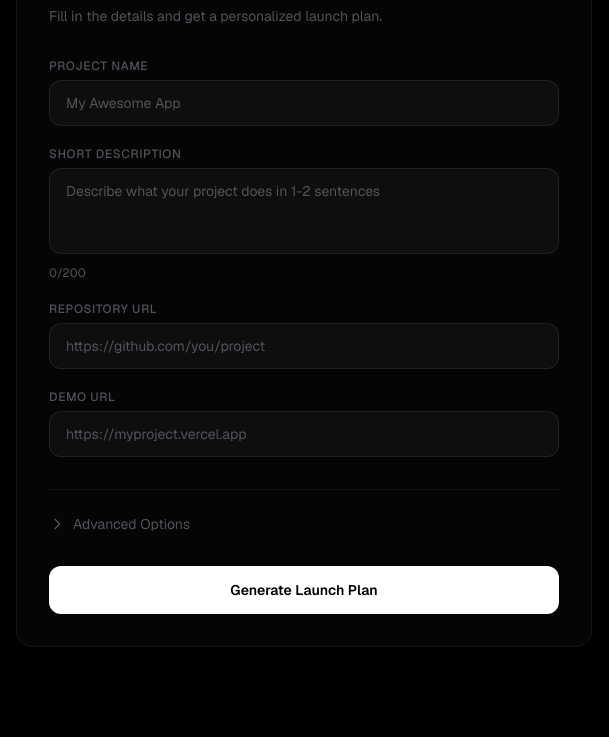
Test: ProjectForm › shows advanced options when toggle is clicked
Expected: the field labelled "target audience" is not shown
Click the advanced options toggle
Click the button "Advanced Options" at (120, 524), box [49,514,190,534]
(page scrolled)
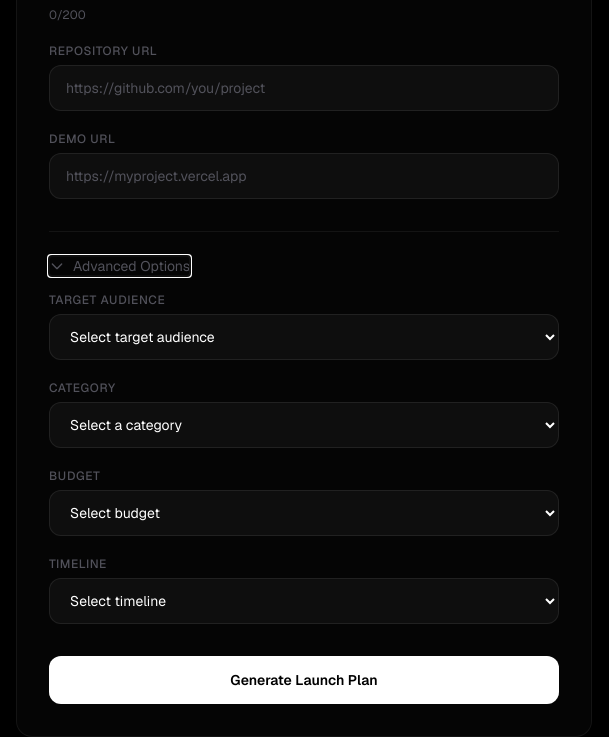
Expected: the dropdown labelled "Target Audience" is shown, [49,314,559,360]
Expected: the dropdown labelled "Category" is shown, [49,402,559,448]
Expected: the dropdown labelled "Budget" is shown, [49,490,559,536]
